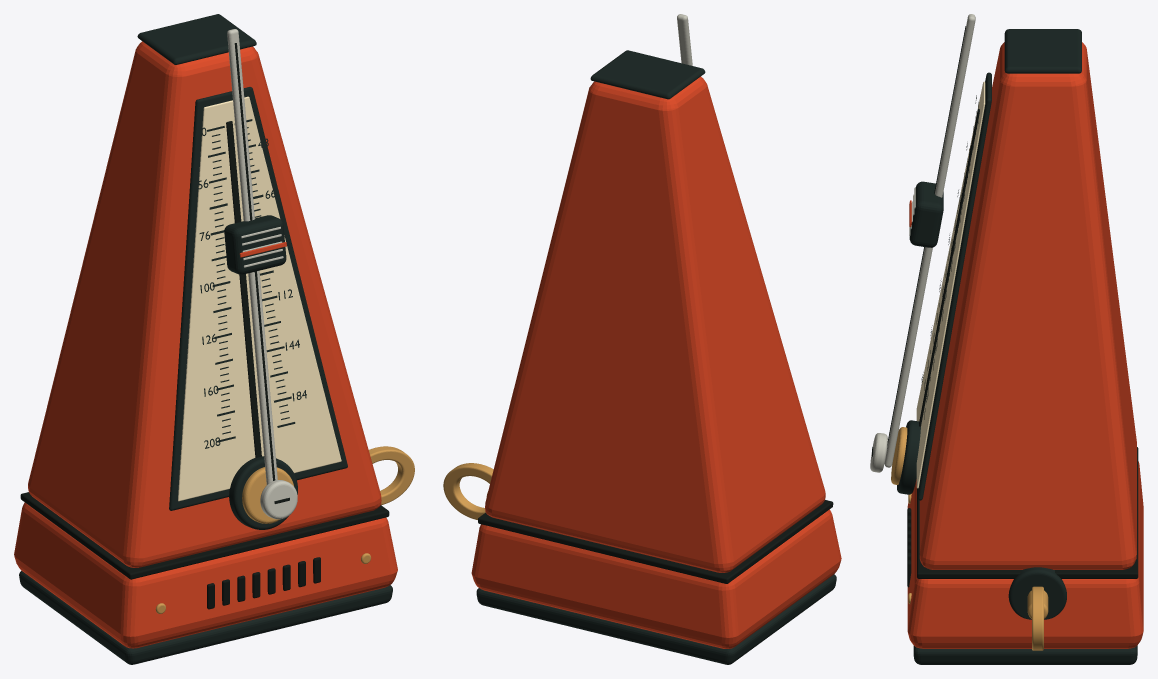
File: metronome.glb
3 views of the same model, side by side, from view 1: azimuth 30°, elevation 25°; view 2: azimuth 150°, elevation 25°; view 3: azimuth 270°, elevation 25° (orthographic). The views are drawn at different scales.
Parts seen in each view (by area): view 1: Tapered case, Scale / ivory, Lower case, Dial gasket, Elastomer foot, Polished reed, Case parting line, Crown, Adjustable rider, Escapement slot, Silkscreen / subdivisions, Escapement bearing (+4 smaller); view 2: Tapered case, Lower case, Elastomer foot, Case parting line, Crown, Winding bow, Polished reed; view 3: Tapered case, Lower case, Scale / ivory, Elastomer foot, Polished reed, Crown, Dial gasket, Case parting line, Key socket, Adjustable rider, Escapement bearing, Escapement slot (+4 smaller).
Part boxes in pixels (x1,y1,x2,y2): Tapered case: (28, 41, 381, 567); Scale / ivory: (178, 96, 341, 501); Lower case: (14, 502, 397, 648); Dial gasket: (169, 87, 347, 510); Elastomer foot: (19, 571, 392, 664); Polished reed: (227, 29, 277, 484); Case parting line: (20, 492, 389, 579); Crown: (137, 14, 256, 64); Adjustable rider: (224, 215, 286, 274); Escapement slot: (226, 121, 261, 457); Silkscreen / subdivisions: (207, 119, 295, 442); Escapement bearing: (229, 456, 297, 529); Tapered case: (485, 76, 825, 572); Lower case: (471, 509, 841, 648); Elastomer foot: (476, 574, 836, 664); Case parting line: (478, 500, 833, 583); Crown: (590, 50, 705, 99); Winding bow: (443, 463, 493, 519); Polished reed: (677, 14, 692, 65); Tapered case: (919, 42, 1136, 569); Lower case: (907, 461, 1143, 648); Scale / ivory: (916, 81, 985, 488); Elastomer foot: (913, 645, 1137, 664); Polished reed: (884, 14, 975, 467); Crown: (1004, 29, 1081, 73); Dial gasket: (917, 72, 991, 500); Case parting line: (917, 447, 1138, 578); Key socket: (1008, 567, 1066, 619); Adjustable rider: (909, 181, 943, 247); Escapement bearing: (897, 420, 920, 494); Escapement slot: (919, 109, 979, 426).
Size of the model in its own units: 2.63 by 4.2 by 1.77.
